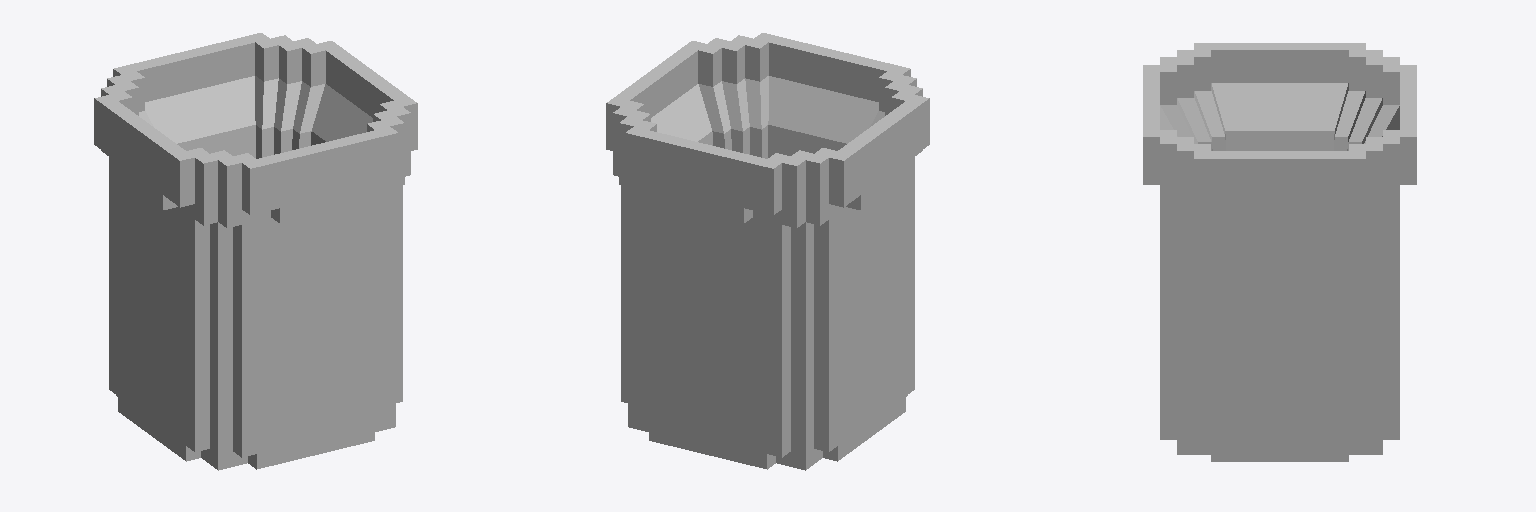
File: Sugar - Optimized - I hate you, you know who you are.obj
The picture shows the model from 3 angles: view 1: azimuth 30°, elevation 25°; view 2: azimuth 150°, elevation 25°; view 3: azimuth 270°, elevation 25°; orthographic projection.
Visible parts, largest first — view 1: Polygon; view 2: Polygon; view 3: Polygon.
Part boxes in pixels (left/top/right/bottom): Polygon: left=94, top=33, right=417, bottom=470; Polygon: left=606, top=33, right=929, bottom=470; Polygon: left=1143, top=43, right=1416, bottom=461.
Size of the model in its own units: 26.93 by 33.66 by 26.93.